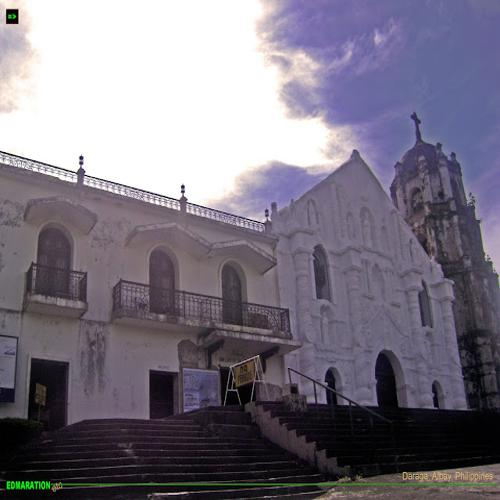Daraga Church: (265, 71, 500, 414)
